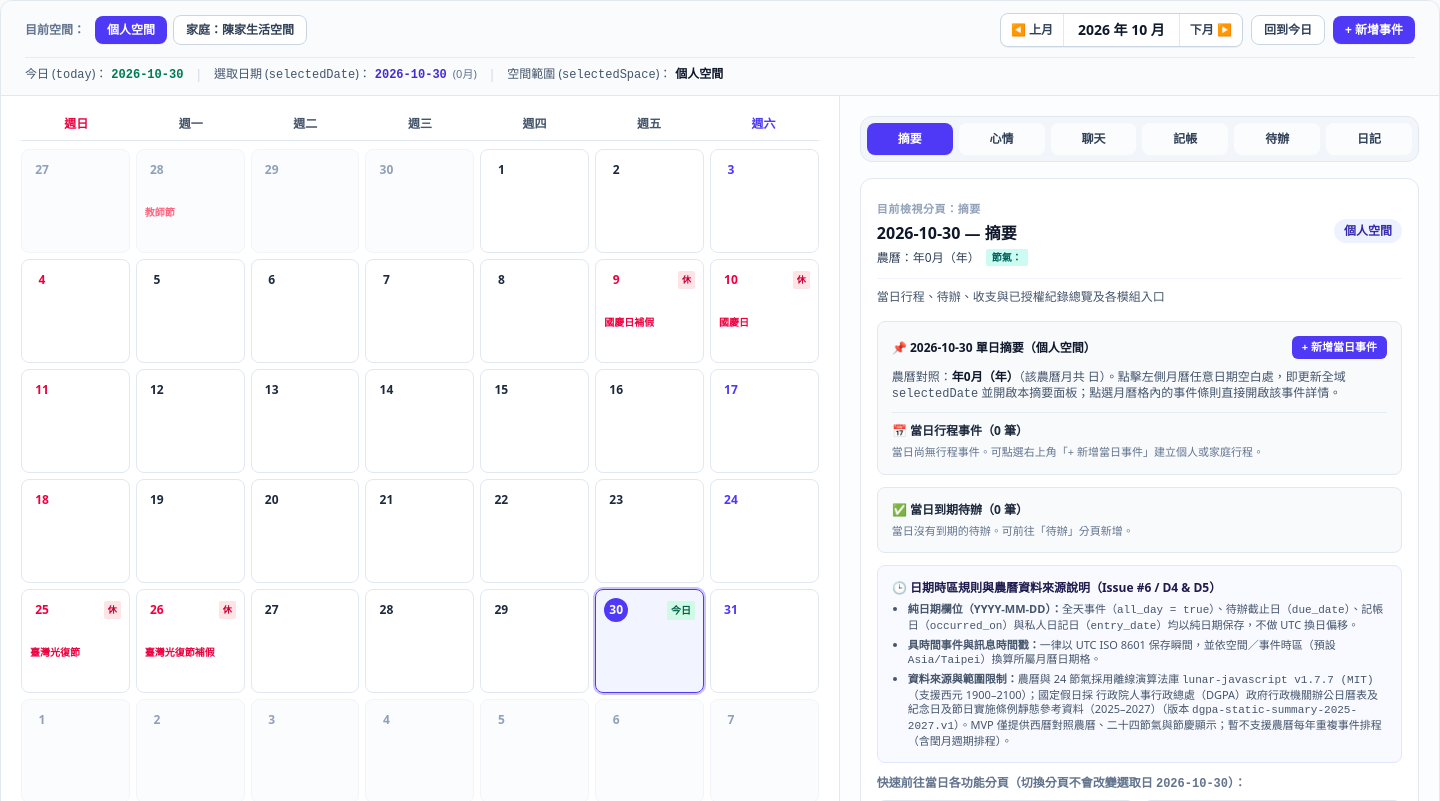
Issue #5 Calendar Layout, Right-Hand Tabs & Date State › Interactive UI behavior (CalendarWorkspace.tsx) › supports month navigation, date selection, and keeps selectedDate separate from today
This screenshot has width=1440, height=801.
Check: the text with test id "calendar-current-month-label" reads "2026 年 10 月", box [1078,20,1165,39]
Check: the text with test id "status-today-date" reads "2026-10-30", box [111,68,183,82]
Select another date in October
Click the cell with test id "calendar-cell-2026-10-14": (420, 421) [366,369,474,473]
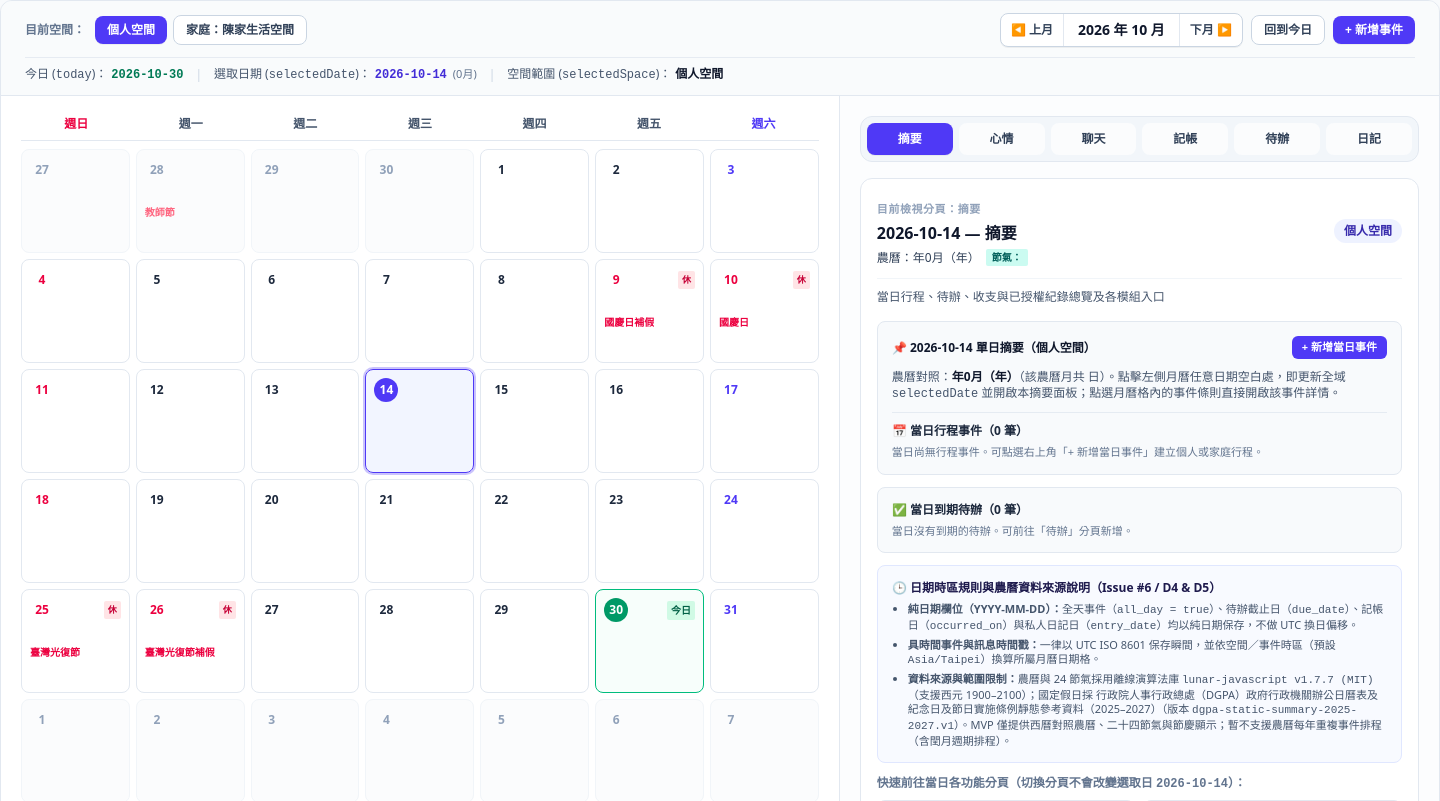
Check: the text with test id "status-today-date" reads "2026-10-30", box [111,68,183,82]
Check: the text with test id "status-selected-date" reads "2026-10-14", box [375,68,447,82]
Check: the heading with test id "right-panel-heading" reads "2026-10-14 — 摘要", box [877,221,1028,245]
Navigate to previous month (September 2026)
Click the button with test id "calendar-prev-month": (1032, 30) [1001,16,1063,44]
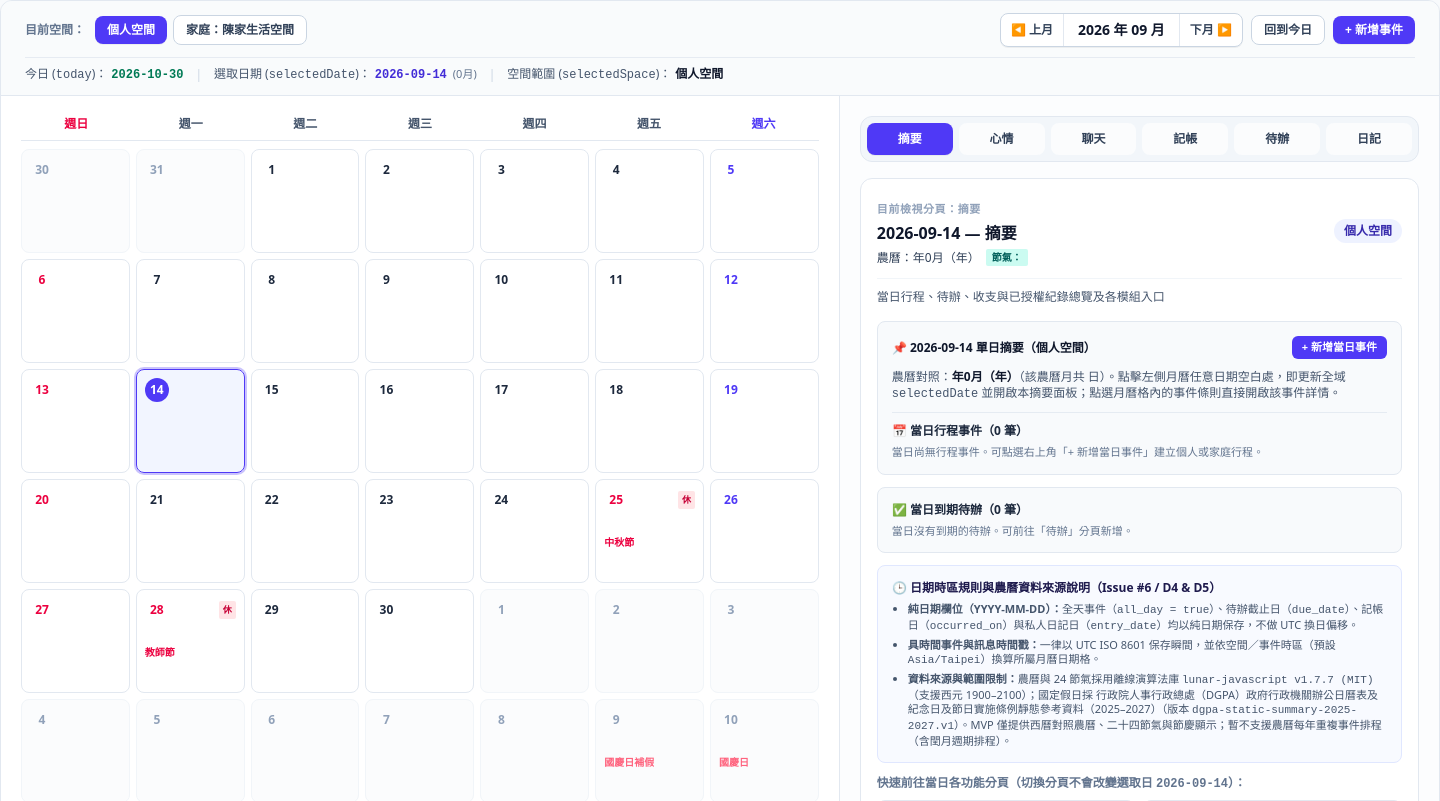
Check: the text with test id "status-today-date" reads "2026-10-30", box [111,68,183,82]
Check: the text with test id "calendar-current-month-label" reads "2026 年 09 月", box [1078,20,1165,39]
Check: the text with test id "status-selected-date" reads "2026-09-14", box [375,68,447,82]
Click the button with test id "calendar-next-month": (1211, 30) [1180,16,1242,44]
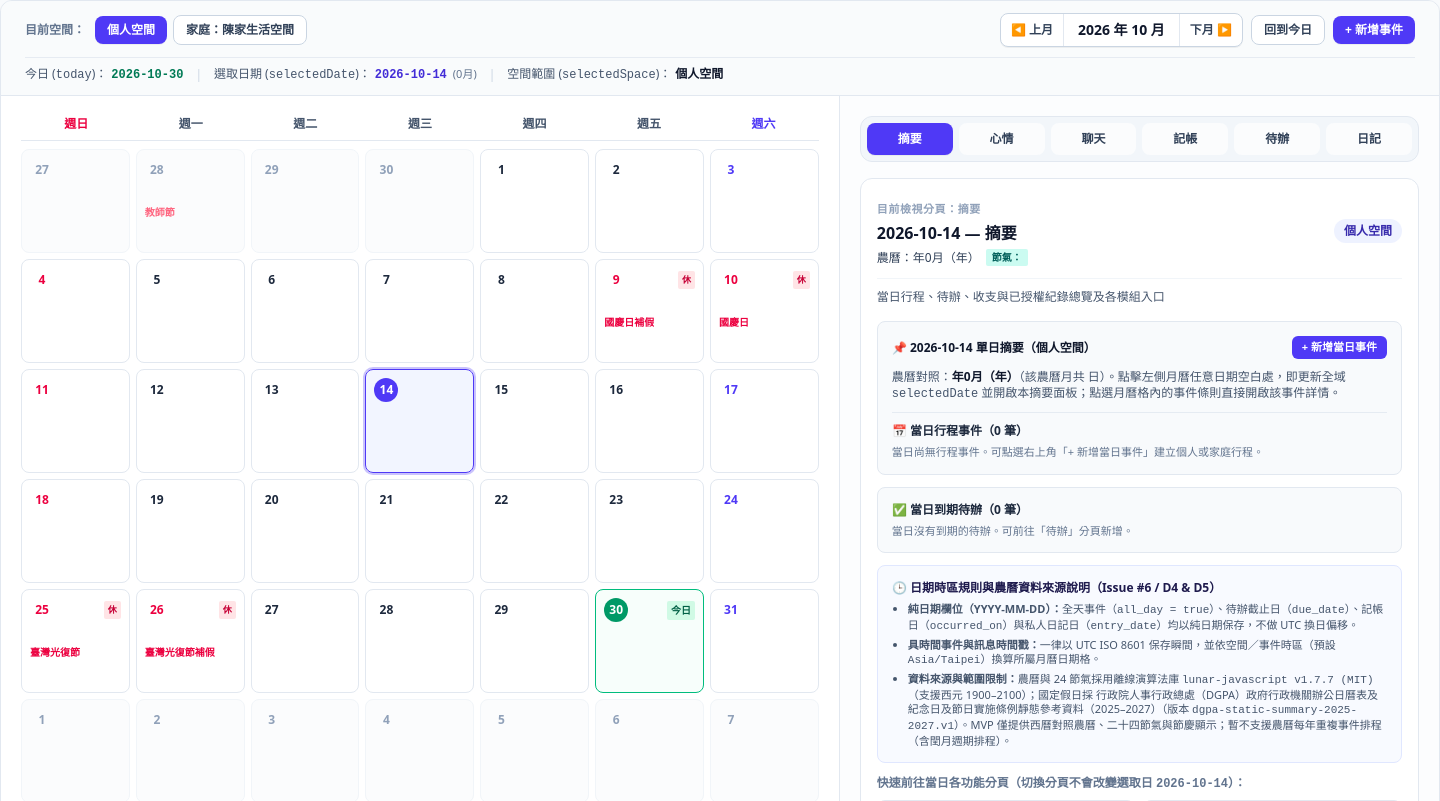
Click the button with test id "calendar-next-month": (1211, 30) [1180,16,1242,44]
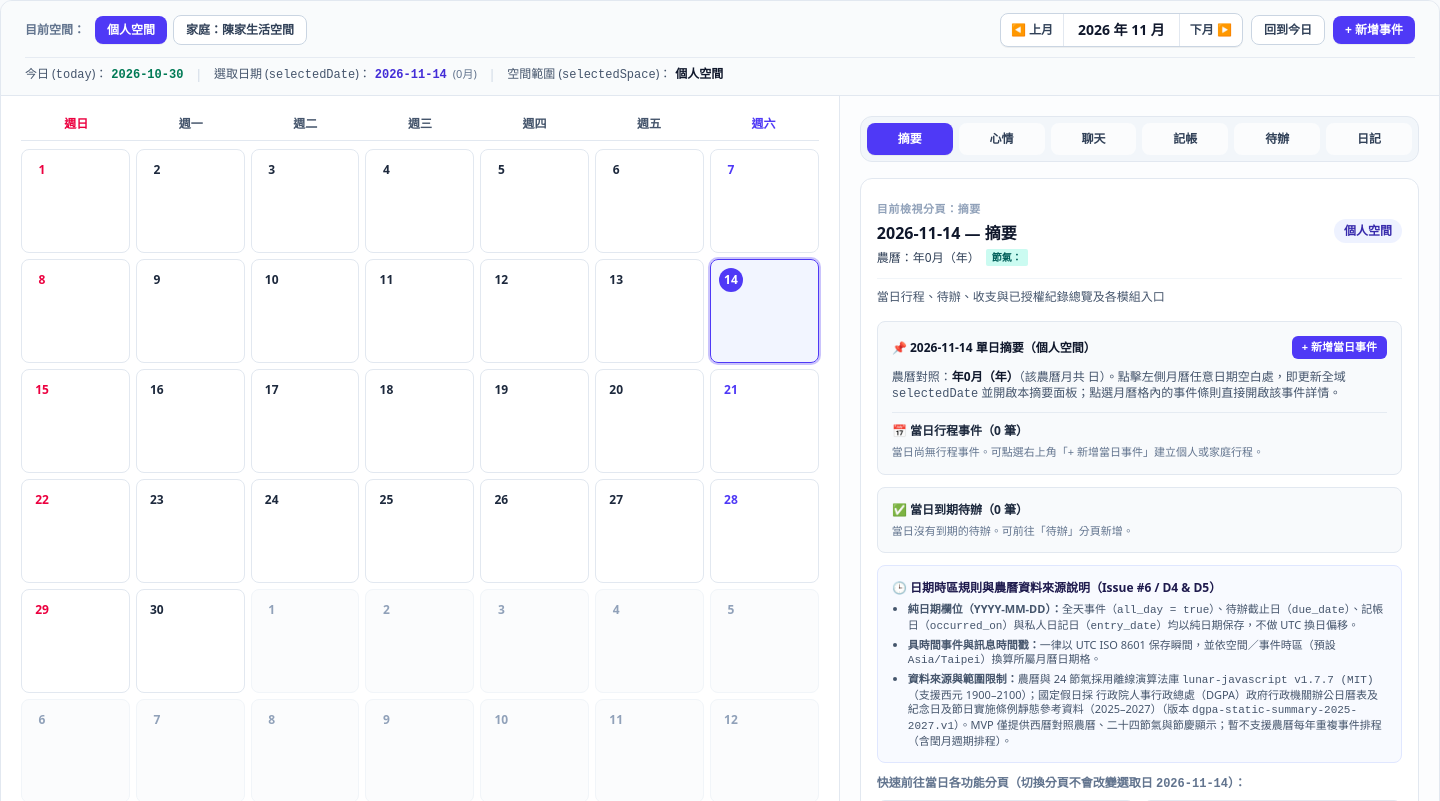
Check: the text with test id "calendar-current-month-label" reads "2026 年 11 月", box [1078,20,1165,39]
Check: the text with test id "status-selected-date" reads "2026-11-14", box [375,68,447,82]
